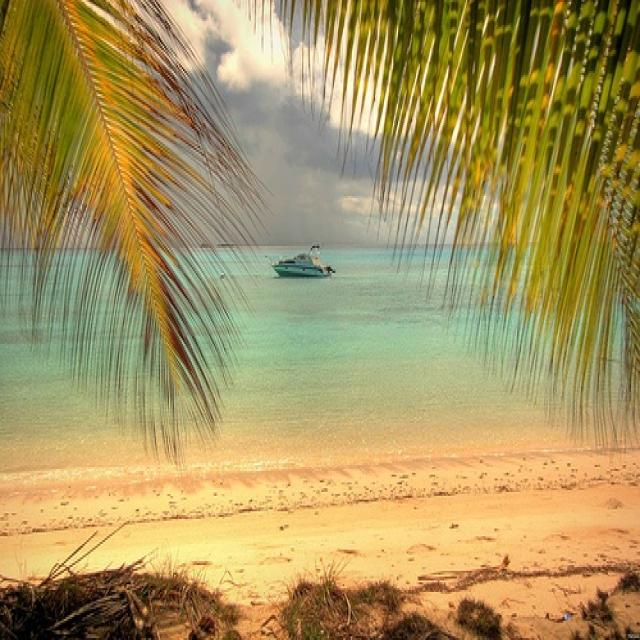boat: (269, 242, 335, 279)
